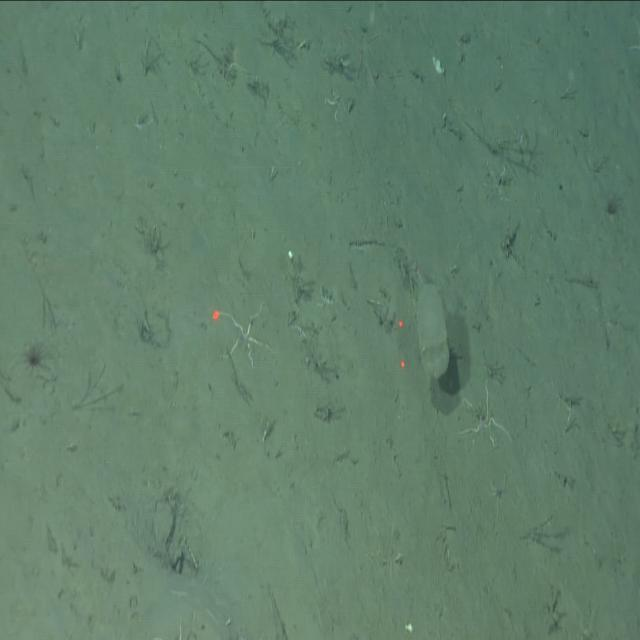Brittle Star: (456, 374, 514, 454), (220, 296, 275, 374)
Not Brittle Star: (402, 246, 456, 392), (15, 331, 56, 382)
